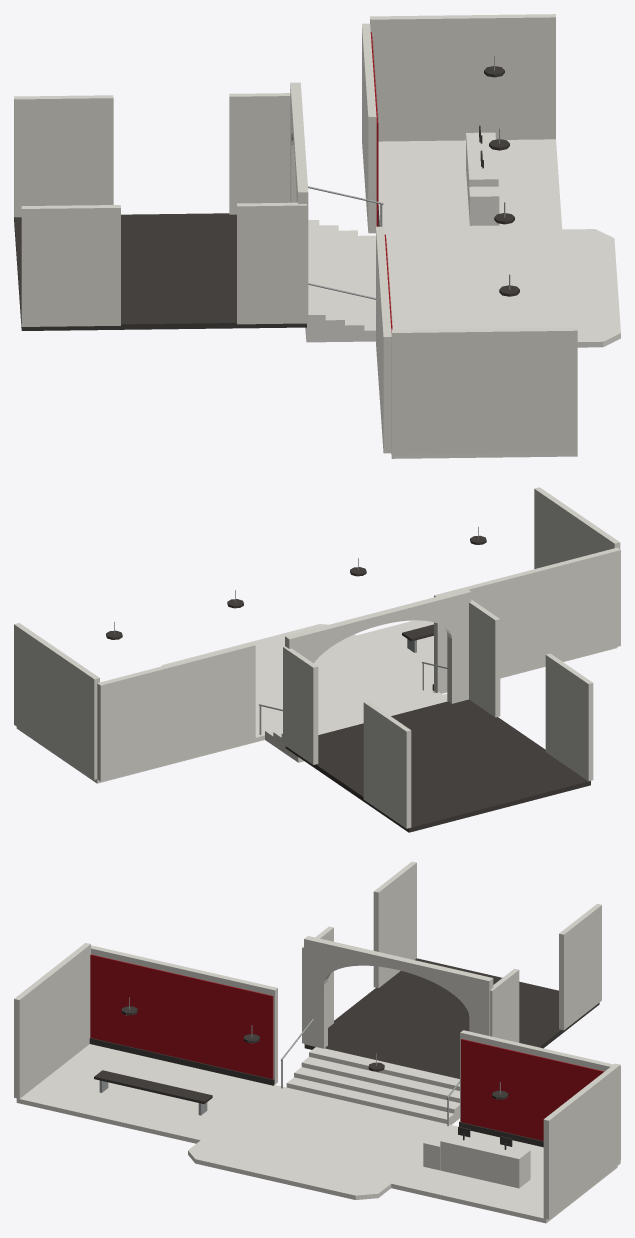
The model's file is old-foyer-interior-fbeca382a32a.glb.
3 renders of one model, top to bottom at view 1: azimuth 30°, elevation 25°; view 2: azimuth 150°, elevation 25°; view 3: azimuth 270°, elevation 25°, orthographic. The views are drawn at different scales.
Visible parts, largest first — view 1: old-foyer; view 2: old-foyer; view 3: old-foyer.
Boxes of the visible parts, x1,y1,x2,y2 form: old-foyer: (14,14,620,458); old-foyer: (14,487,620,832); old-foyer: (14,861,620,1223).
Size of the model in its own units: 16.46 by 3.99 by 17.25.
